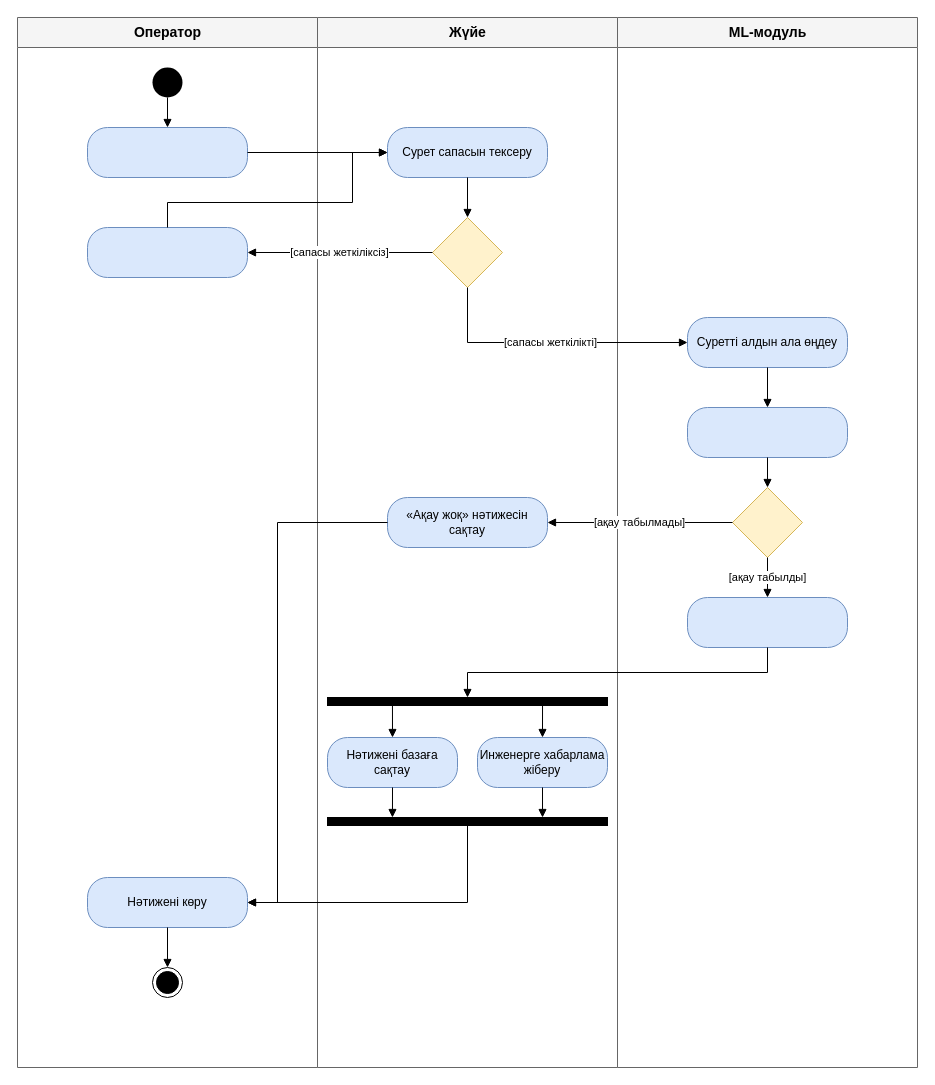
This 935x1085 diagram has some shape labels left out. Here are the shapes that lost their labels. From the top down, the centre of each, then its label:
At pixel 167 152: "Жабдықтың суретін жүктеу".
At pixel 167 252: "Жаңа сурет жүктеу".
At pixel 767 432: "Ақауларды іздеу".
At pixel 767 622: "Ақау орнын белгілеу".
